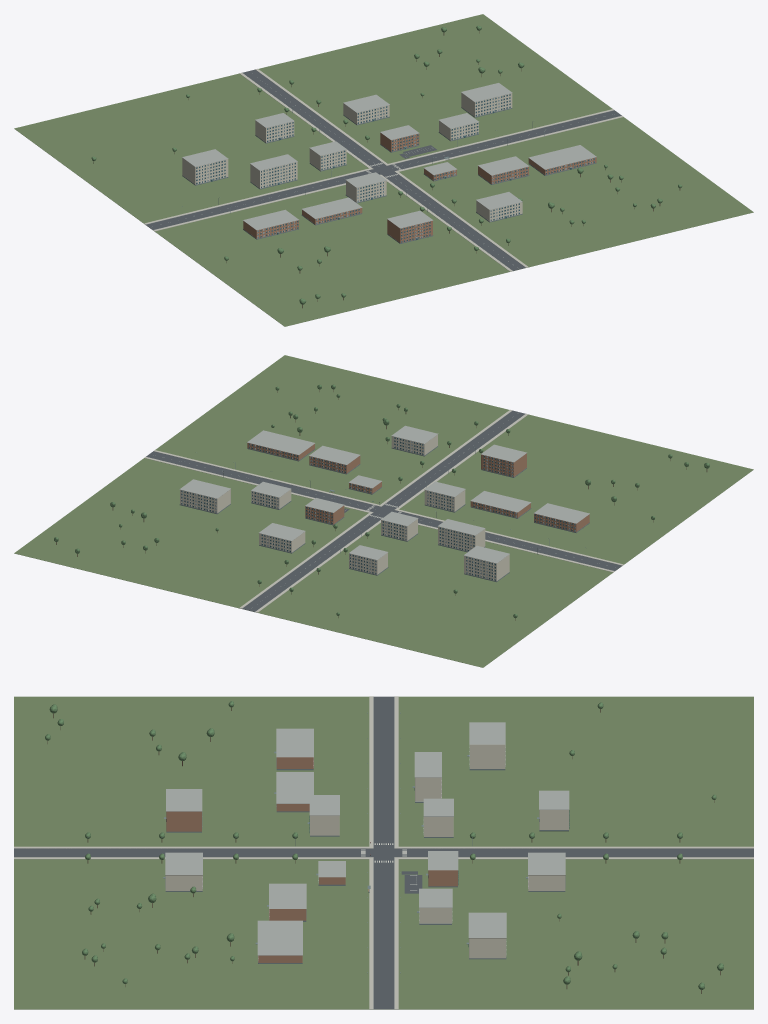
The model's file is DS_District.fbx.
3 views of the same model, one above another, from view 1: azimuth 30°, elevation 25°; view 2: azimuth 150°, elevation 25°; view 3: azimuth 270°, elevation 25° (orthographic). The views are drawn at different scales.
Visible parts, largest first — view 1: Terrain, RoadSurface.003, RoadSurface, RoadSurface.001, RoadSurface.002, FlatRoof.011, BuildingMass.004, BuildingMass.008, BuildingMass.009, FlatRoof.006, BuildingMass.014, FlatRoof.010 (+8 smaller); view 2: Terrain, RoadSurface, RoadSurface.001, RoadSurface.003, RoadSurface.002, FlatRoof.011, BuildingMass.008, BuildingMass.004, BuildingMass.009, FlatRoof.006, BuildingMass.014, FlatRoof.010 (+7 smaller); view 3: Terrain, RoadSurface.002, RoadSurface.003, RoadSurface, RoadSurface.001, FlatRoof.011, FlatRoof.006, FlatRoof.010, Sidewalk, Sidewalk.002, FlatRoof.009, FlatRoof.007 (+26 smaller).
Part boxes in pixels (bbox=[...]): Terrain: bbox=[14, 14, 753, 326]; RoadSurface.003: bbox=[387, 110, 621, 171]; RoadSurface: bbox=[382, 171, 525, 270]; RoadSurface.001: bbox=[242, 69, 386, 168]; RoadSurface.002: bbox=[146, 169, 380, 229]; FlatRoof.011: bbox=[528, 145, 596, 169]; BuildingMass.004: bbox=[250, 162, 297, 188]; BuildingMass.008: bbox=[182, 158, 228, 184]; BuildingMass.009: bbox=[461, 93, 512, 116]; FlatRoof.006: bbox=[301, 197, 362, 219]; BuildingMass.014: bbox=[387, 219, 432, 242]; FlatRoof.010: bbox=[243, 209, 298, 230]; Terrain: bbox=[14, 355, 753, 667]; RoadSurface: bbox=[381, 410, 525, 509]; RoadSurface.001: bbox=[242, 512, 385, 611]; RoadSurface.003: bbox=[146, 451, 380, 512]; RoadSurface.002: bbox=[392, 510, 621, 570]; FlatRoof.011: bbox=[247, 430, 315, 455]; BuildingMass.008: bbox=[464, 554, 509, 581]; BuildingMass.004: bbox=[438, 526, 485, 551]; BuildingMass.009: bbox=[180, 489, 230, 513]; FlatRoof.006: bbox=[470, 491, 531, 512]; BuildingMass.014: bbox=[481, 453, 526, 476]; FlatRoof.010: bbox=[533, 503, 589, 523]; Terrain: bbox=[14, 696, 753, 1009]; RoadSurface.002: bbox=[373, 696, 394, 848]; RoadSurface.003: bbox=[373, 857, 394, 1009]; RoadSurface: bbox=[14, 848, 373, 856]; RoadSurface.001: bbox=[394, 848, 753, 856]; FlatRoof.011: bbox=[257, 920, 302, 955]; FlatRoof.006: bbox=[276, 772, 313, 803]; FlatRoof.010: bbox=[276, 728, 313, 757]; Sidewalk: bbox=[14, 846, 373, 848]; Sidewalk.002: bbox=[398, 846, 753, 848]; FlatRoof.009: bbox=[468, 912, 506, 938]; FlatRoof.007: bbox=[269, 883, 306, 908].
Size of the model in its own units: 50000 by 50000 by 1948.
